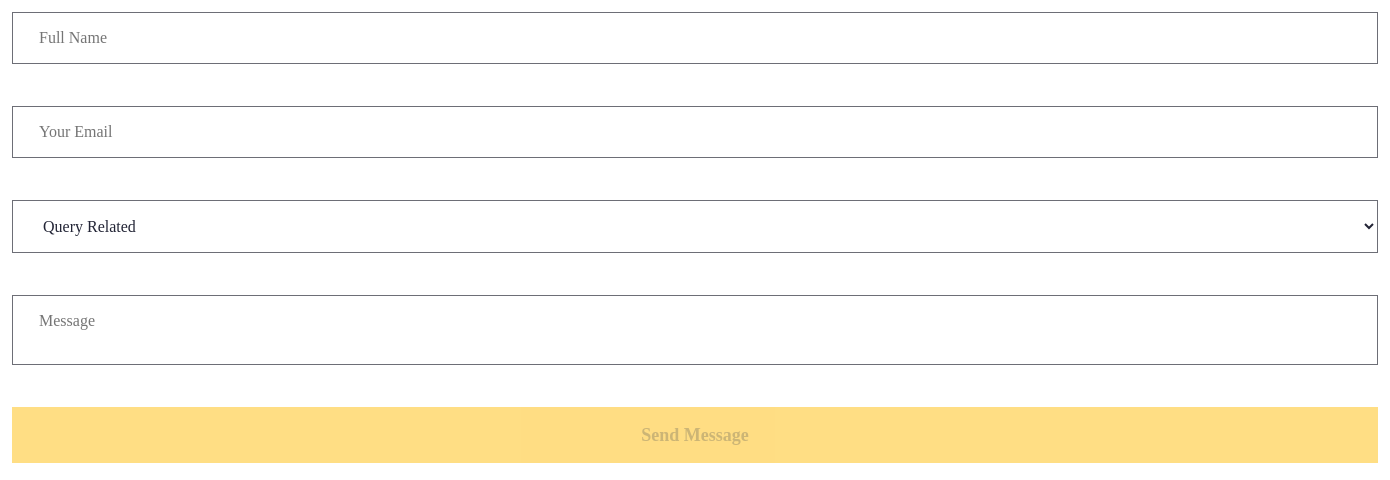
Contact form › Should enable submit if email is correct
Type "Test Name" into the field with test id "fullNameInput".
click(695, 38); type("Test Name")  # box [12, 12, 1378, 64]
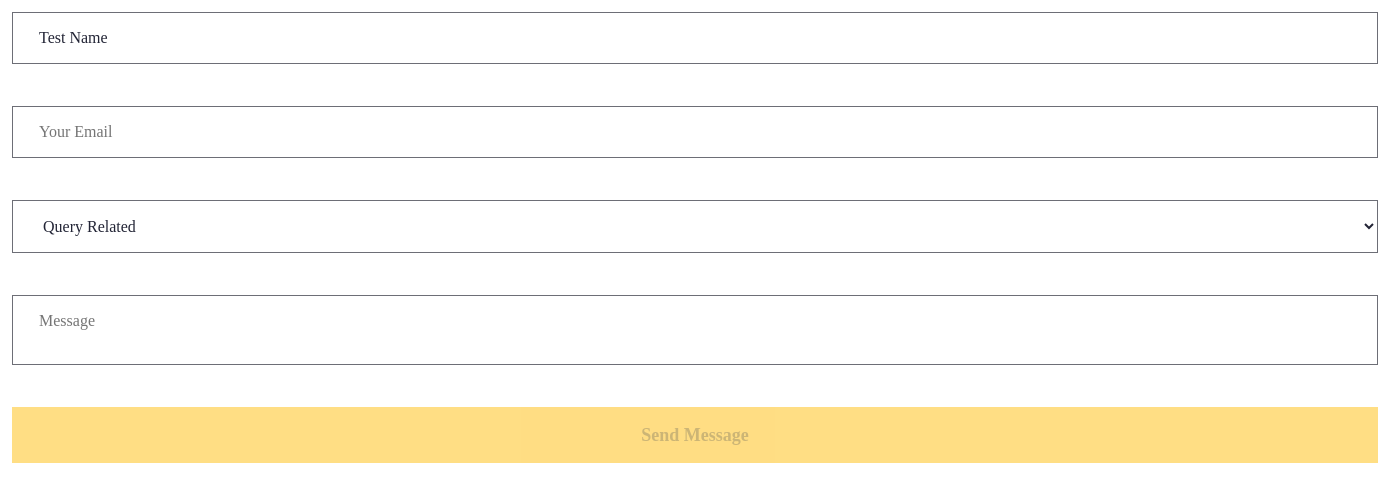
Type "Test Message" into the text box with test id "messageTextarea".
click(695, 330); type("Test Message")  # box [12, 295, 1378, 365]
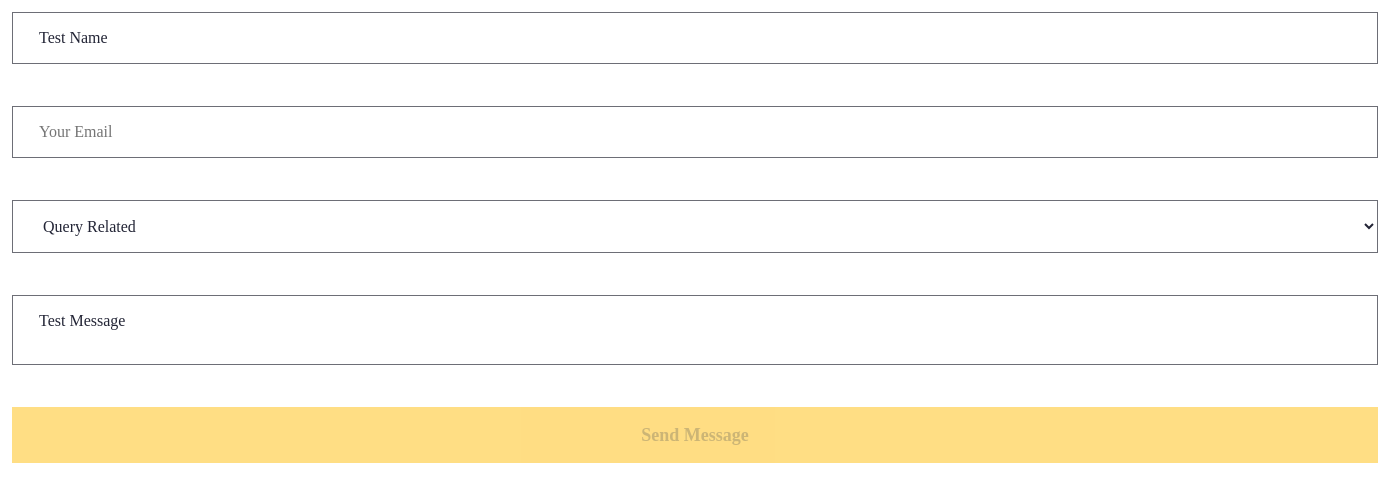
Type "test@gmail.com" into the field with test id "emailInput".
click(695, 132); type("test@gmail.com")  # box [12, 106, 1378, 158]
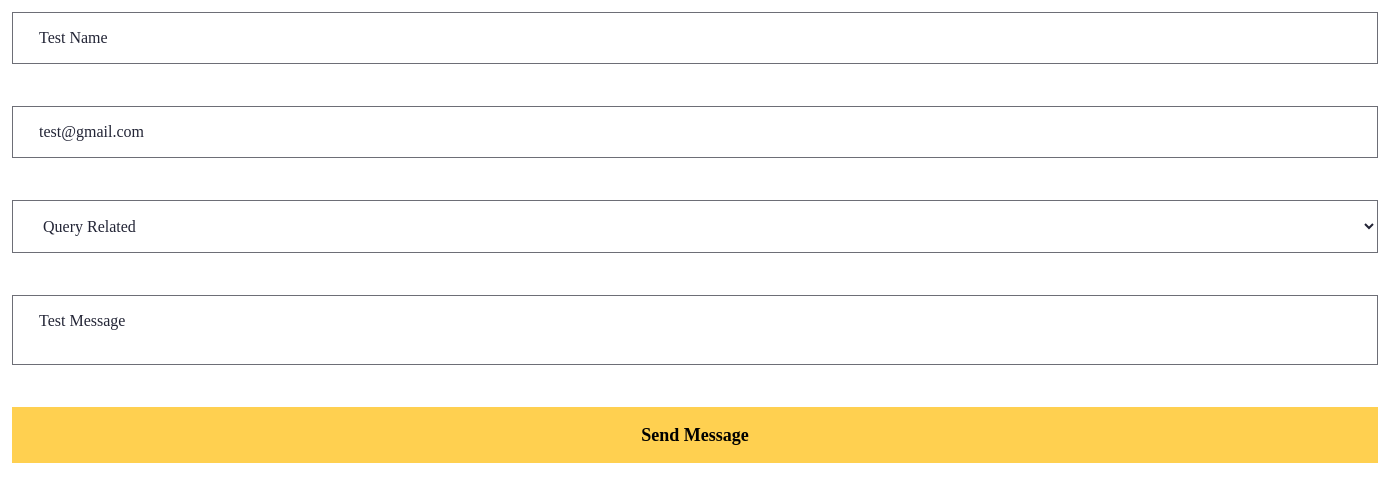
Check: the button "Send Message" is enabled, box [12, 407, 1378, 463]
